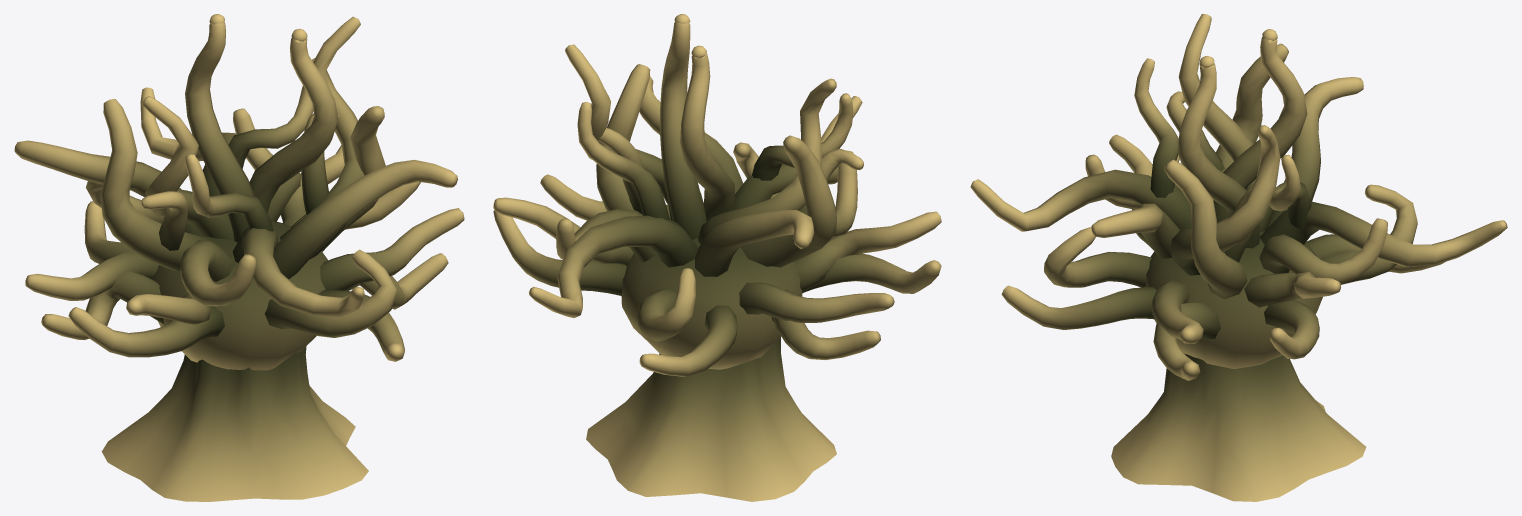
File: TREE_A.fbx
3 renders of one model, left to right at view 1: azimuth 30°, elevation 25°; view 2: azimuth 150°, elevation 25°; view 3: azimuth 270°, elevation 25°, orthographic. The views are drawn at different scales.
Parts seen in each view (by area): view 1: TREE_A; view 2: TREE_A; view 3: TREE_A.
Boxes of the visible parts, x1,y1,x2,y2 form: TREE_A: [14, 14, 464, 501]; TREE_A: [493, 14, 941, 501]; TREE_A: [970, 14, 1507, 501].
Bounding box in the file's own units: 11.11 × 11.21 × 13.17.
